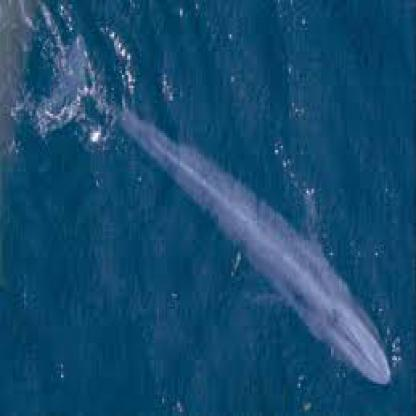blue_whale: (92, 88, 403, 399)
